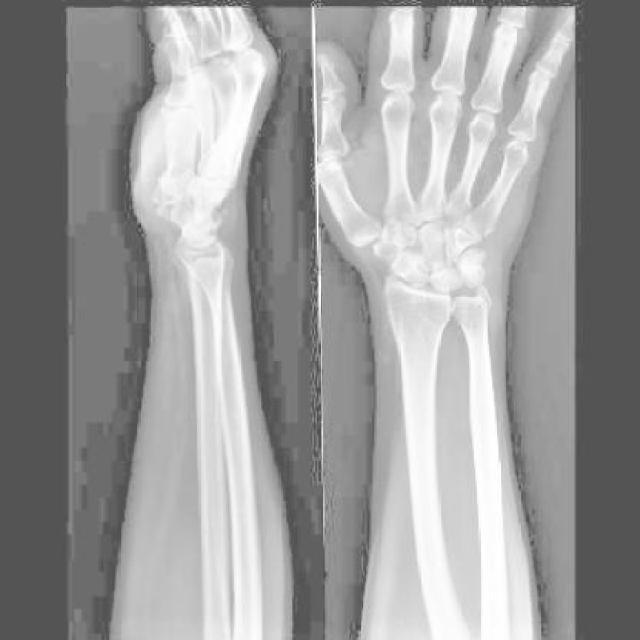Fracture: (460, 259, 480, 279), (209, 206, 229, 225)
